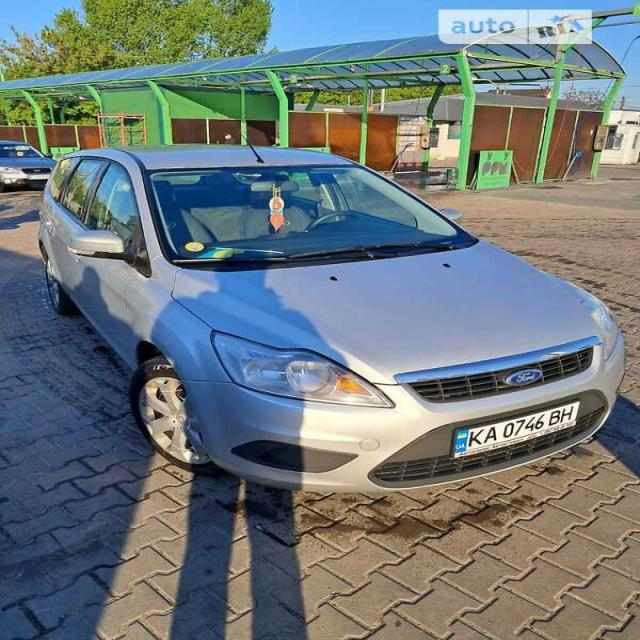plate: (449, 400, 594, 467)
